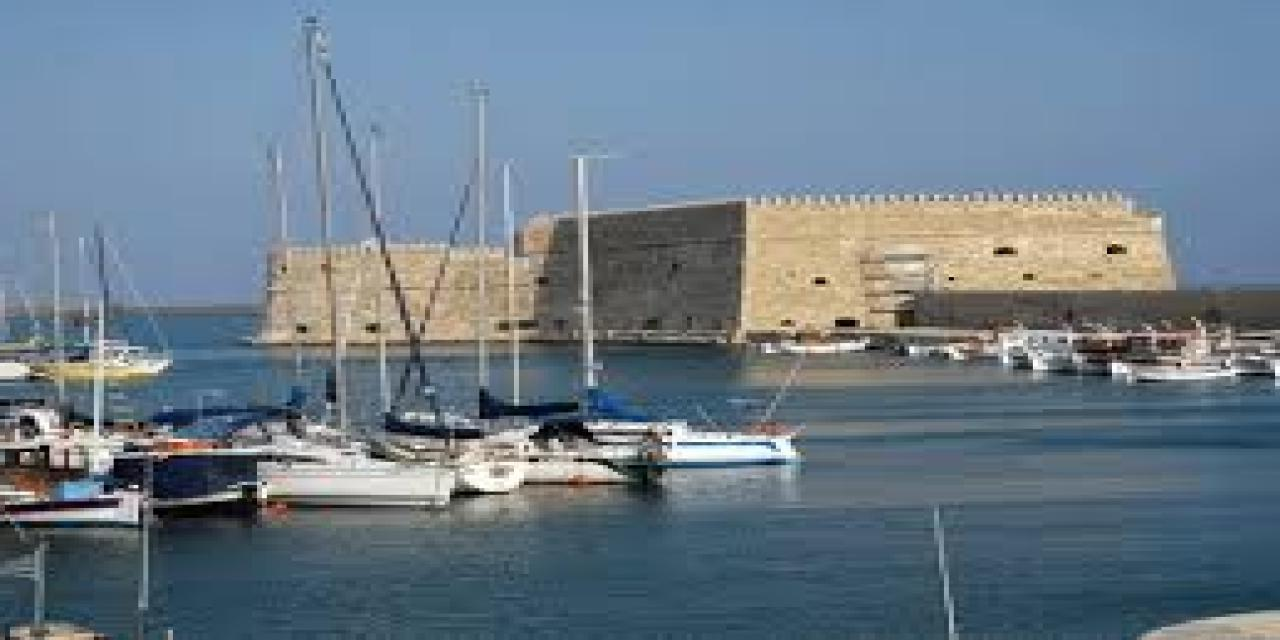Kules: (246, 183, 1172, 351)
